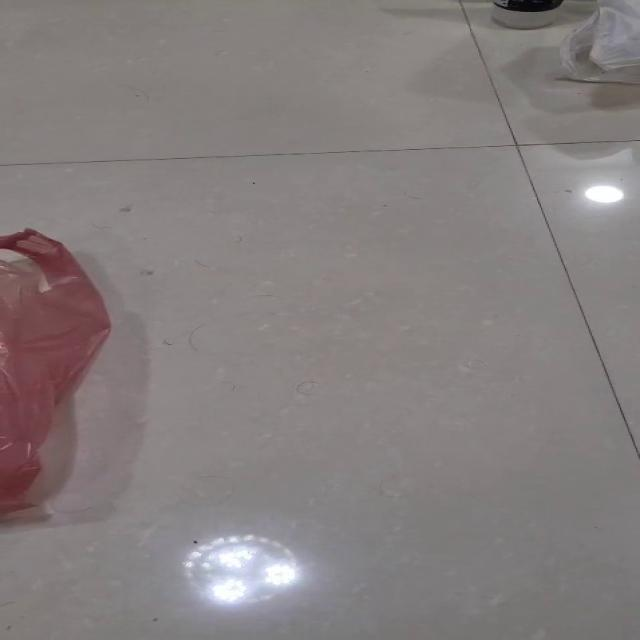plastic: (0, 227, 111, 514)
